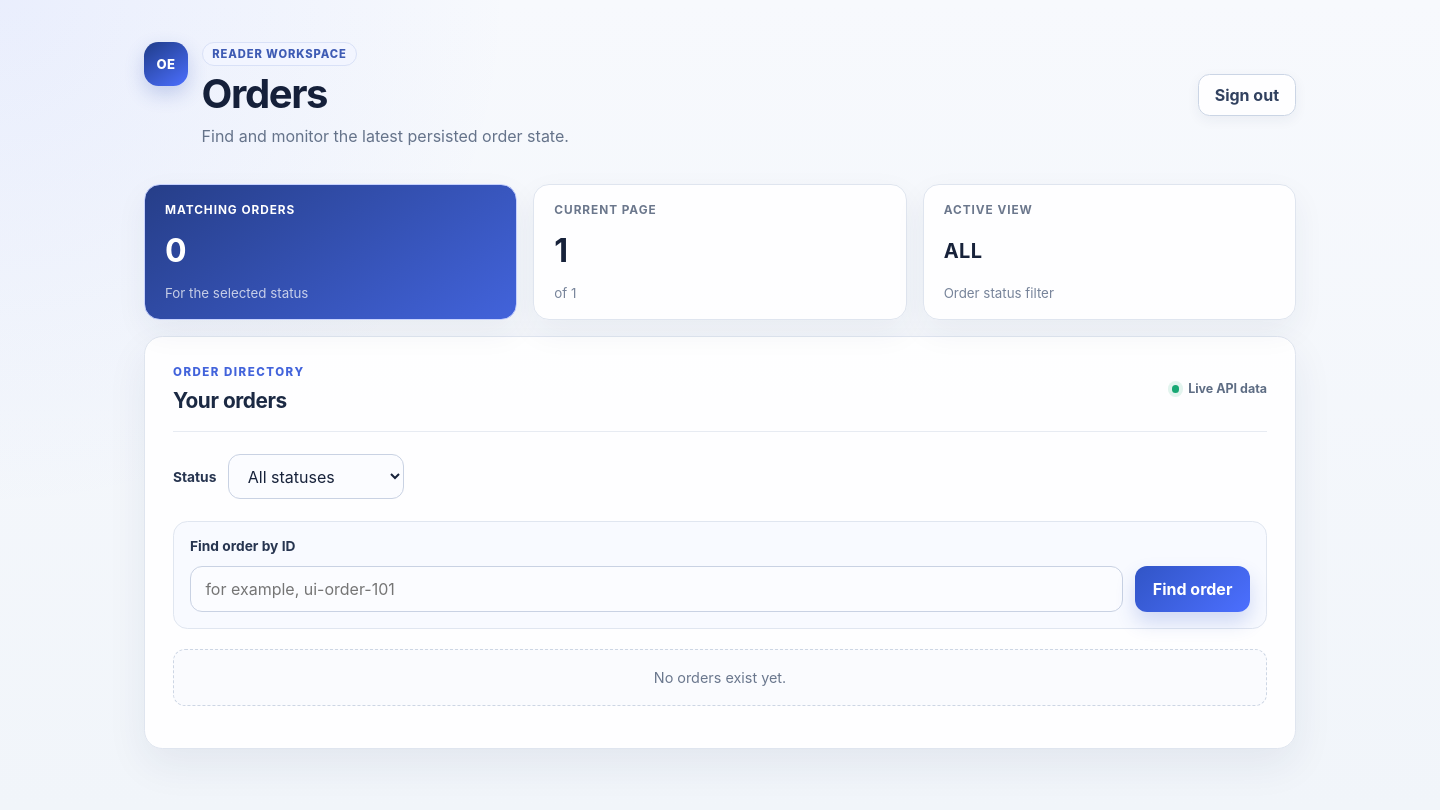
Test: Dashboard › finds an order by its exact ID
The width and height of the screenshot is (1440, 810).
In the field labelled "Find order by ID": [657, 589] box [190, 566, 1123, 612], type "  reader-order-101  "
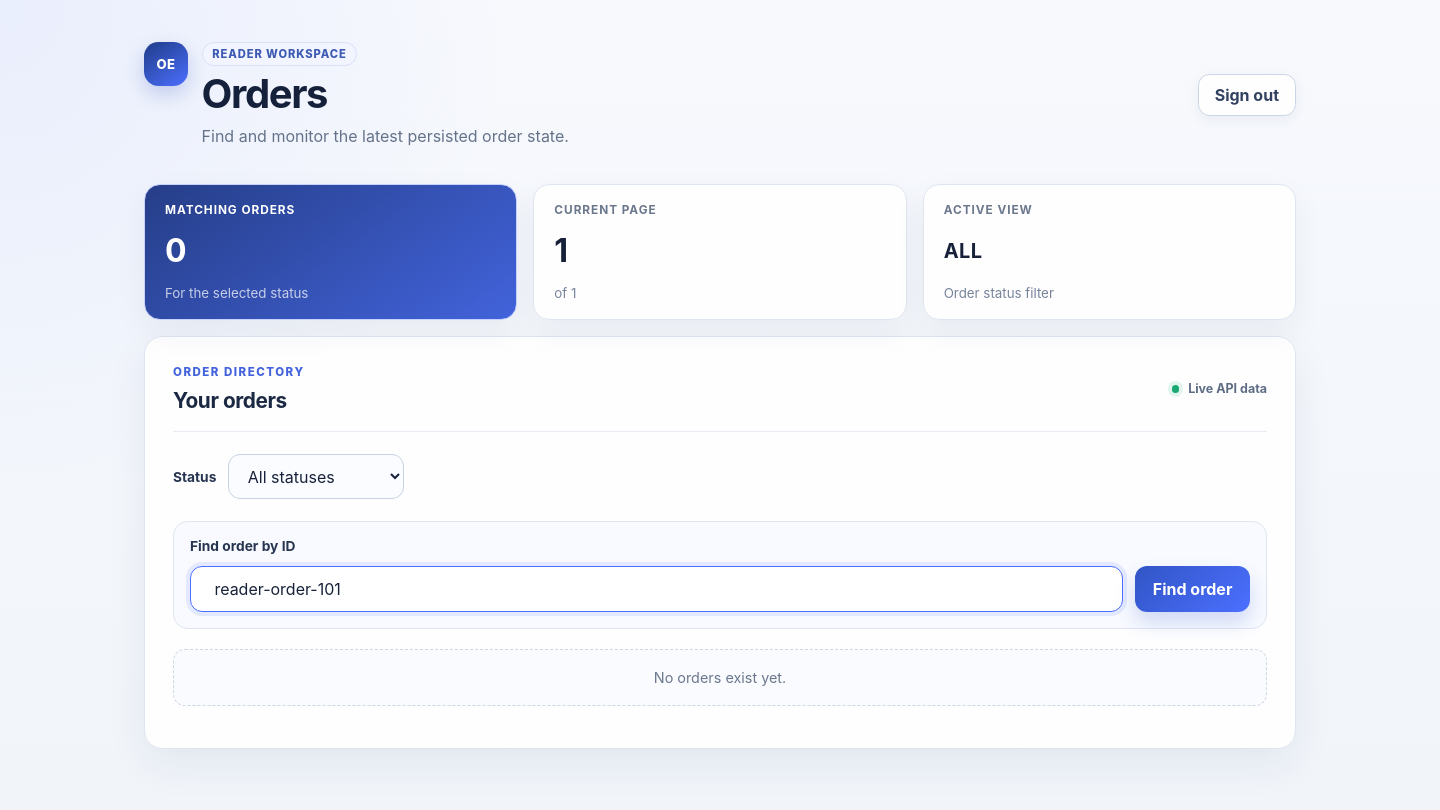
Click the button "Find order": [1193, 589] box [1135, 566, 1250, 612]
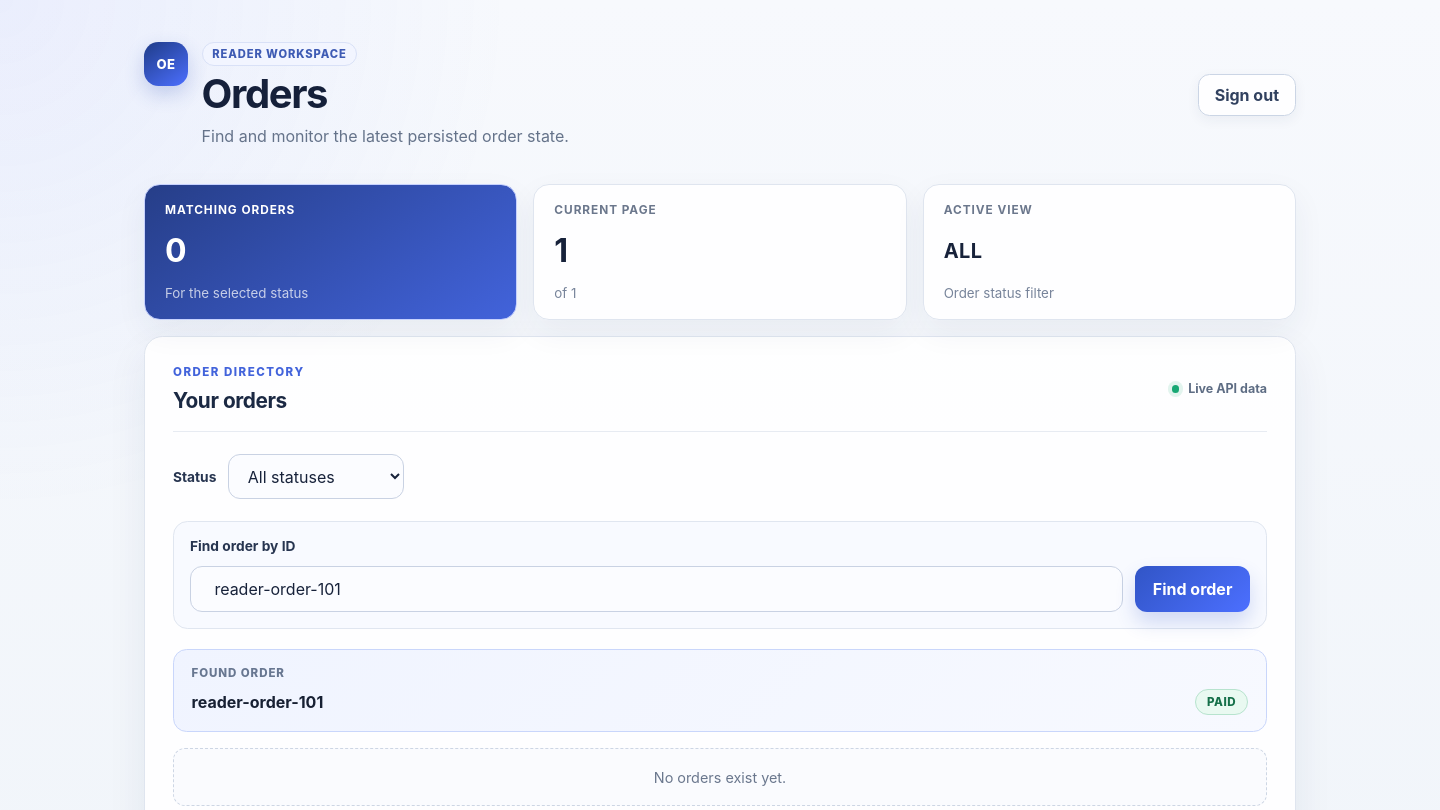
Expected: the element "Found order" shows "reader-order-101", [192, 692, 323, 712]
Expected: the element "Found order" shows "PAID", [1207, 695, 1236, 709]
